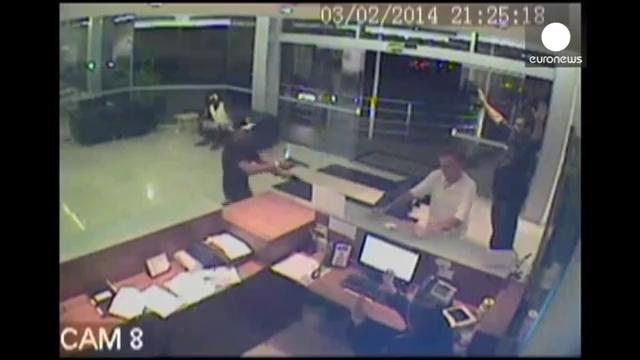weapon: (281, 155, 312, 172)
